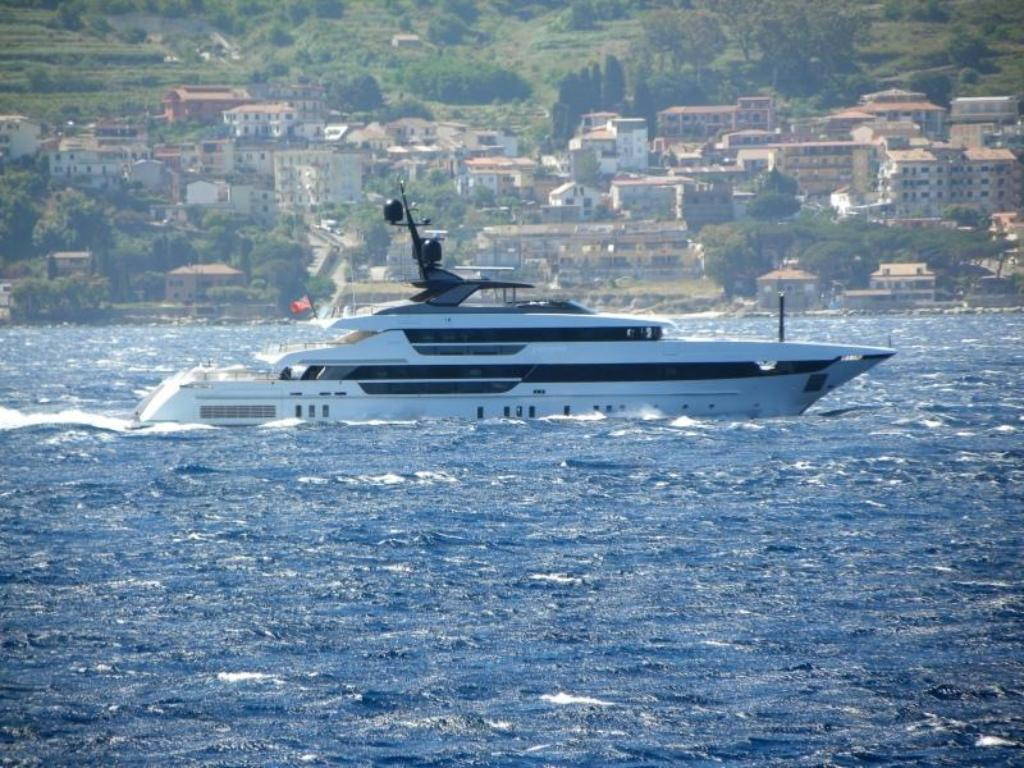PassengerShip: (124, 180, 902, 430)
